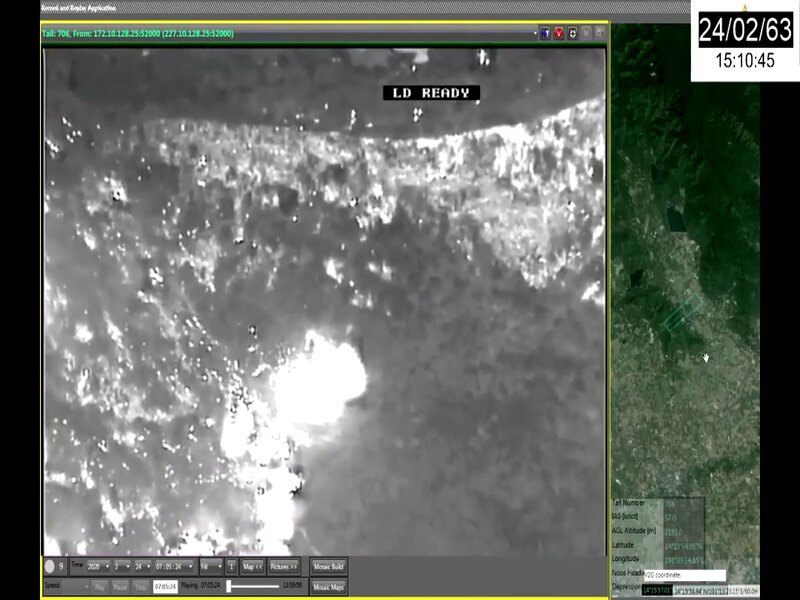Fire: (164, 329, 374, 555)
